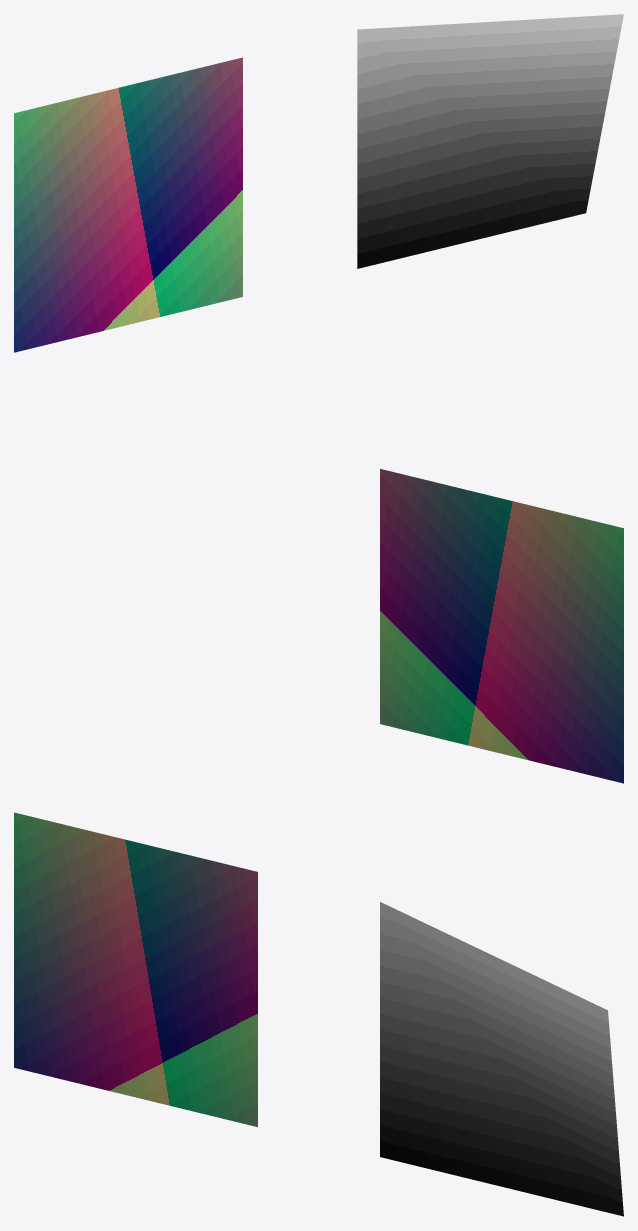
The model's file is multimat-quad.glb.
The picture shows the model from 3 angles, top to bottom: view 1: azimuth 30°, elevation 25°; view 2: azimuth 150°, elevation 25°; view 3: azimuth 330°, elevation 25°; orthographic projection. The views are drawn at different scales.
Parts seen in each view (by area): view 1: quads; view 2: quads; view 3: quads.
Boxes of the visible parts, x1,y1,x2,y2 form: quads: [14, 14, 623, 352]; quads: [380, 469, 623, 783]; quads: [14, 812, 623, 1216].
Bounding box in the file's own units: 2.55 × 1 × 0.2.
Materials: 2 (2 with a texture image).
